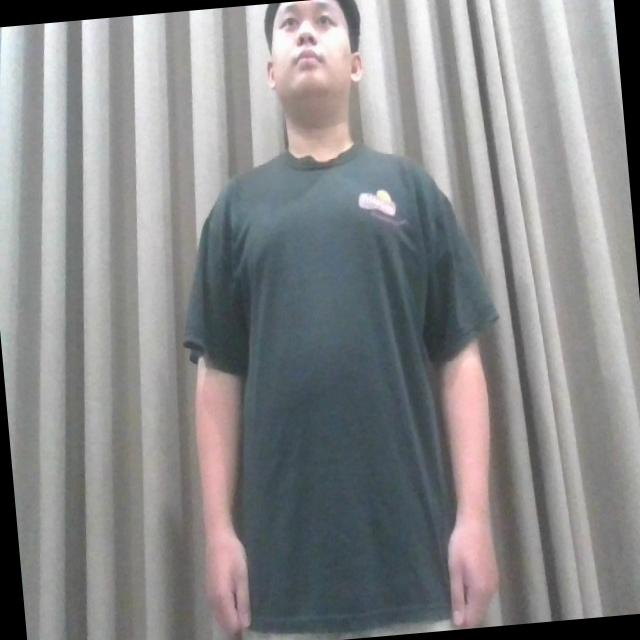T_shirt: (185, 145, 498, 630)
